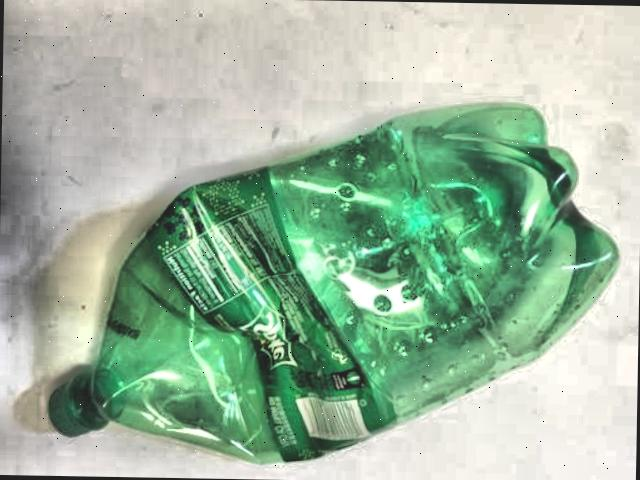Bottles: (32, 83, 640, 480)
